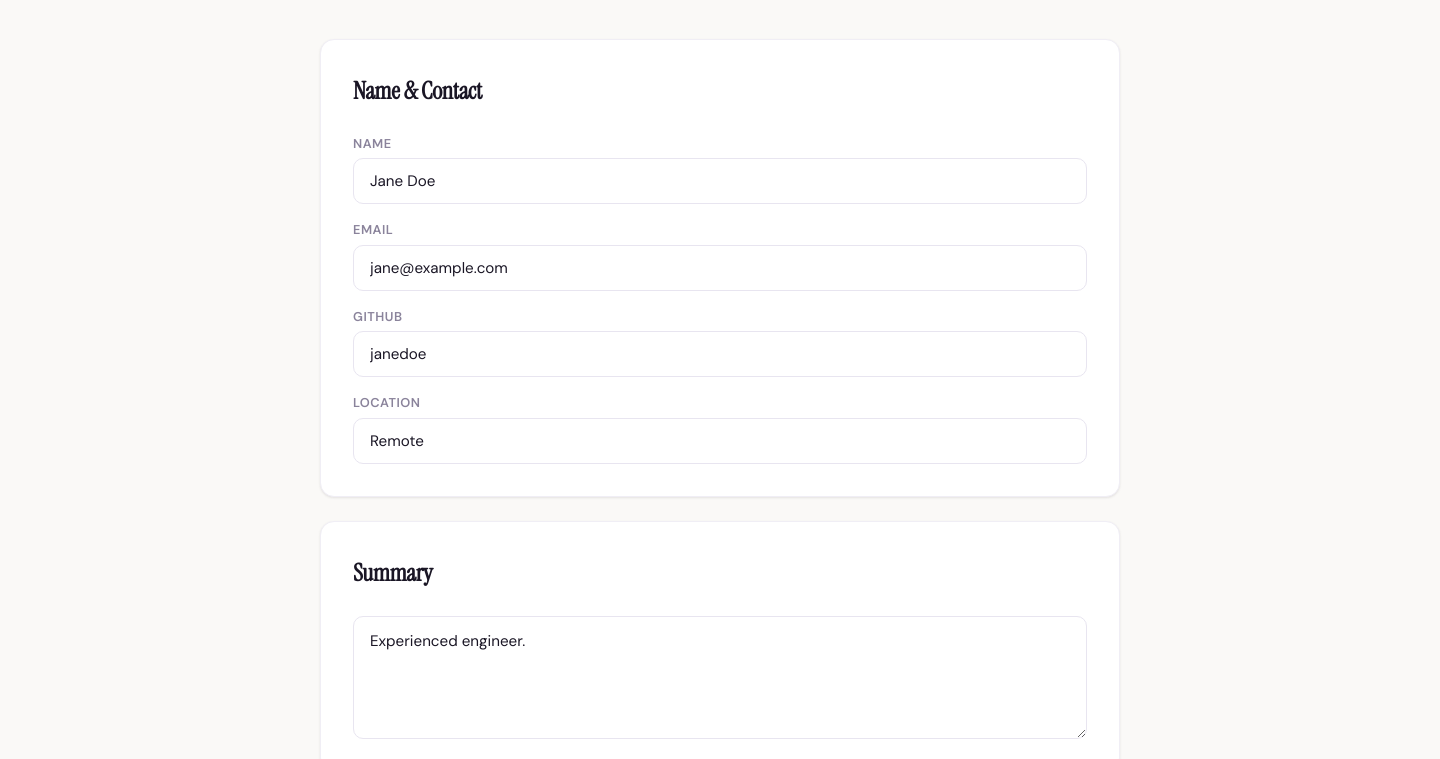
Scenario: Resume › shows the current unsaved value of an edited field in the Preview modal, not the last-saved value
Step 1. Replace the text in the 1st field showing "Jane Doe" with "Jane Smith" → (720, 182), box [353,158,1087,204]
(page scrolled)
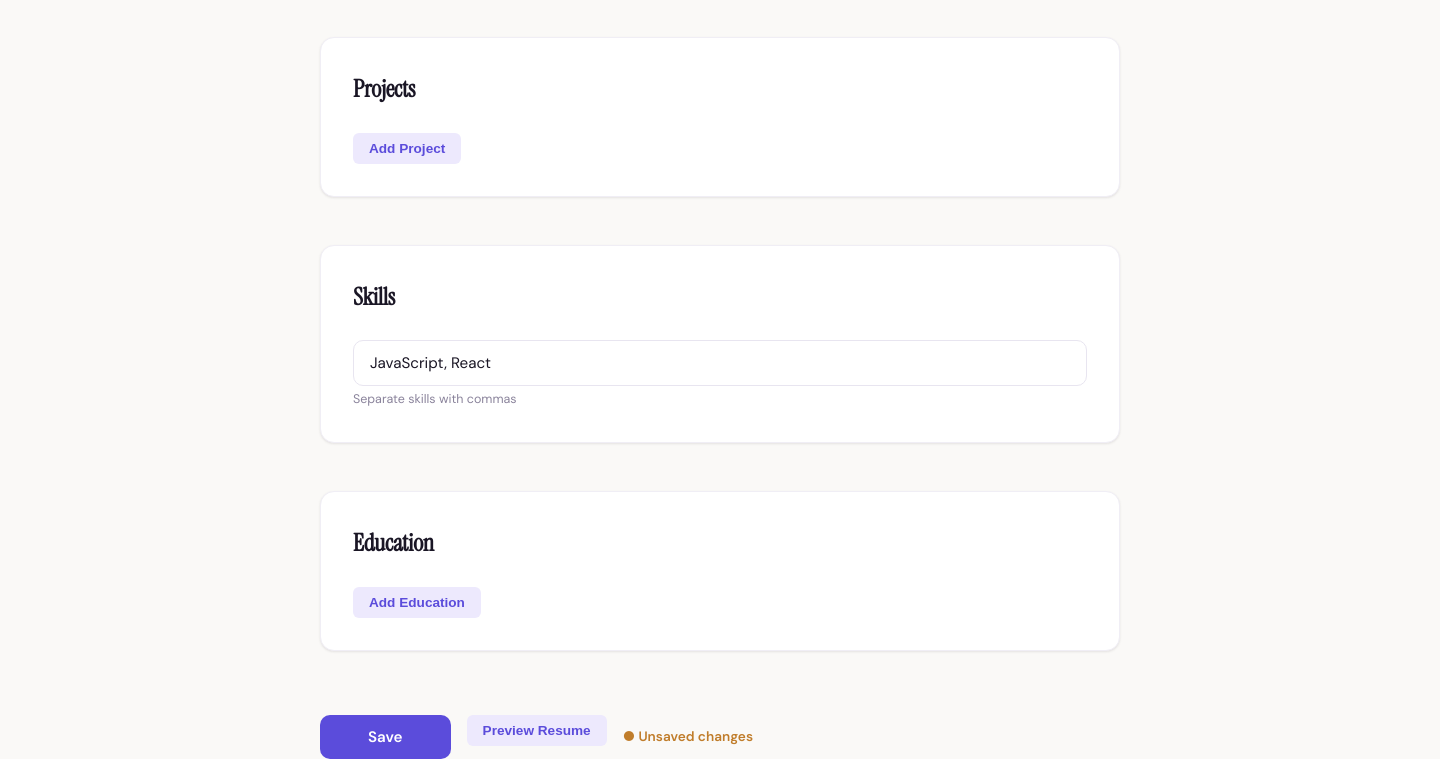
Step 2. Click the button "Preview Resume" → (537, 730), box [467,715,607,746]
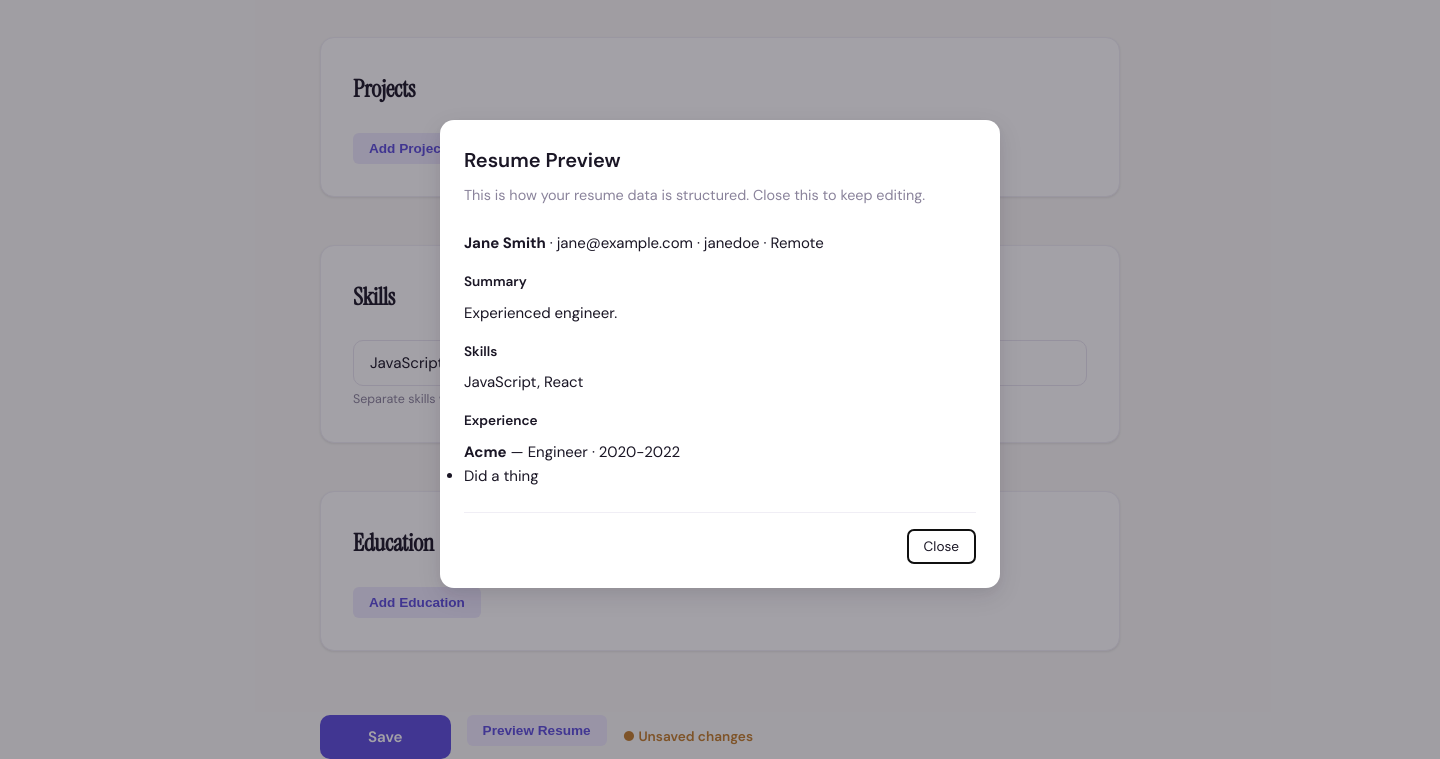
expect the text "Jane Doe" is not shown: met
expect the heading "Resume Preview" is shown: met, box [464,147,620,173]
expect the text "Jane Smith" is shown: met, box [464,233,546,253]
